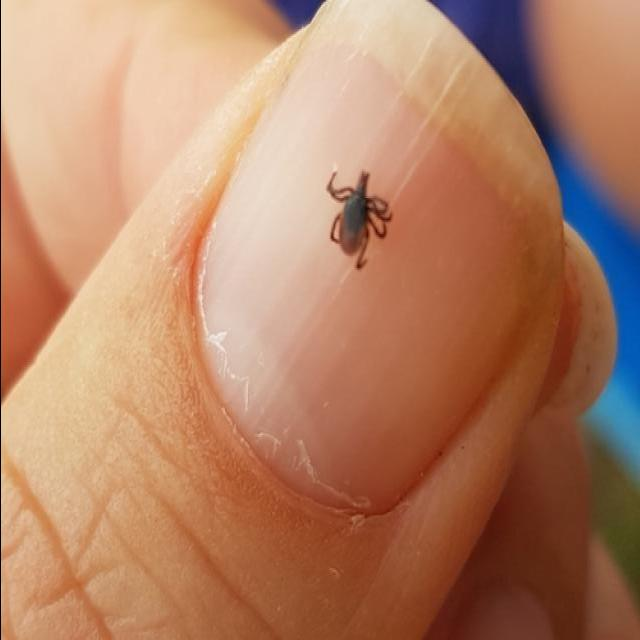Ixodes Ricinus-F: (329, 169, 389, 271)
